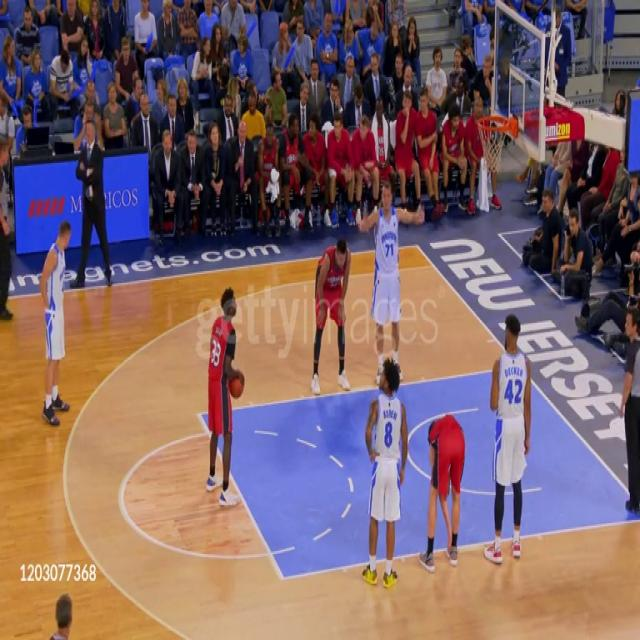ball: (231, 370, 245, 400)
